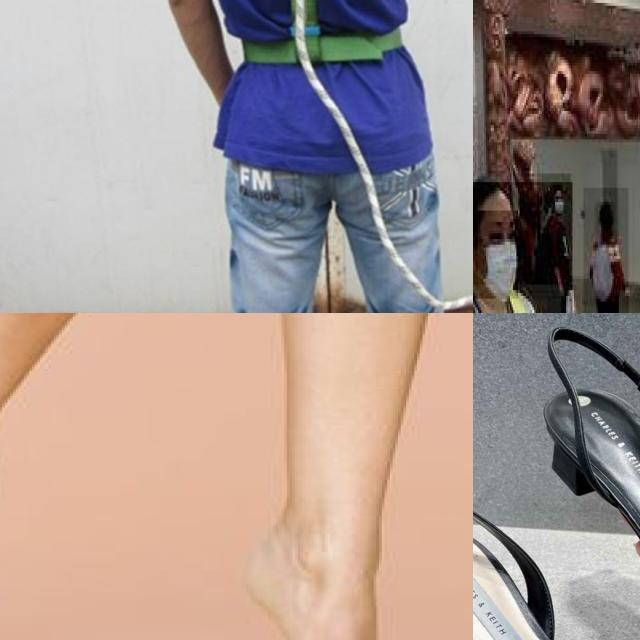Barefoots: (240, 542, 427, 640)
Harness: (169, 0, 424, 86)
Sandals: (504, 313, 640, 640), (473, 449, 640, 640)
face_mask: (473, 210, 520, 302), (553, 188, 563, 210)
head_nohelmet: (473, 176, 515, 213), (594, 202, 616, 239)
person: (473, 182, 574, 313), (583, 188, 630, 313), (537, 173, 572, 313)
